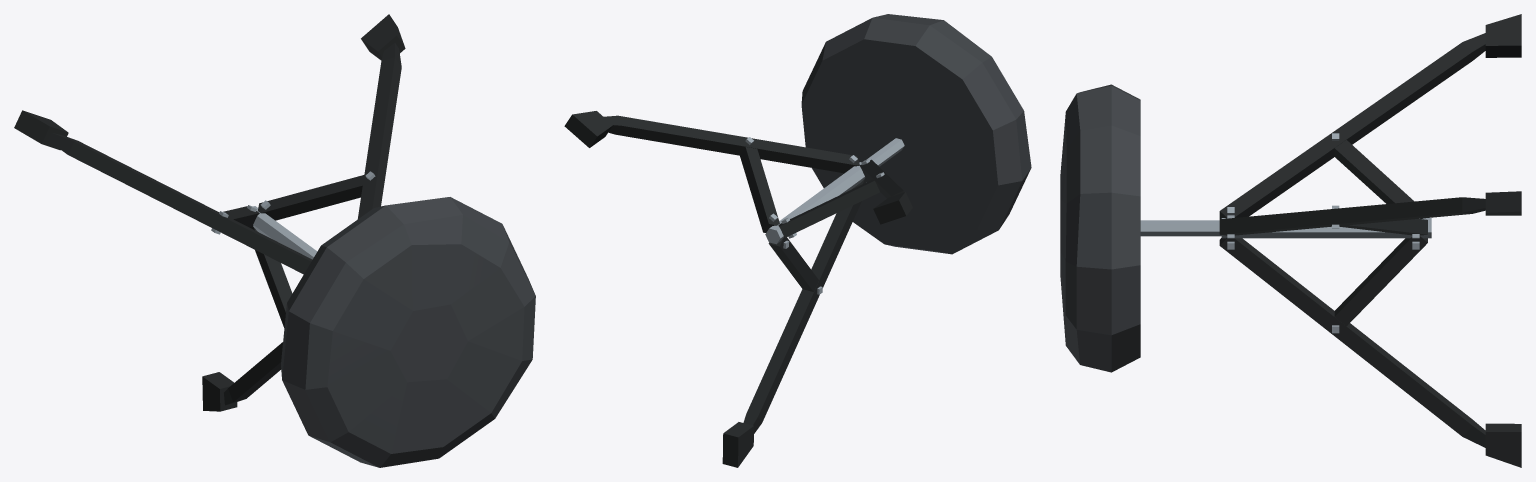
Rendered from SM_Prop_Music_Drums_Kit_01_Seat_01_Part_01.obj.
3 views of the same model, side by side, from view 1: azimuth 30°, elevation 25°; view 2: azimuth 150°, elevation 25°; view 3: azimuth 270°, elevation 25° (orthographic). The views are drawn at different scales.
Parts seen in each view (by area): view 1: SM_Prop_Music_Drums_Kit_01_Seat_01_Part_01_0; view 2: SM_Prop_Music_Drums_Kit_01_Seat_01_Part_01_0; view 3: SM_Prop_Music_Drums_Kit_01_Seat_01_Part_01_0.
Boxes of the visible parts, x1,y1,x2,y2 form: SM_Prop_Music_Drums_Kit_01_Seat_01_Part_01_0: (14,14,535,467); SM_Prop_Music_Drums_Kit_01_Seat_01_Part_01_0: (564,14,1031,467); SM_Prop_Music_Drums_Kit_01_Seat_01_Part_01_0: (1060,14,1521,467).
Bounding box in the file's own units: 50.13 × 44.32 × 50.7.
